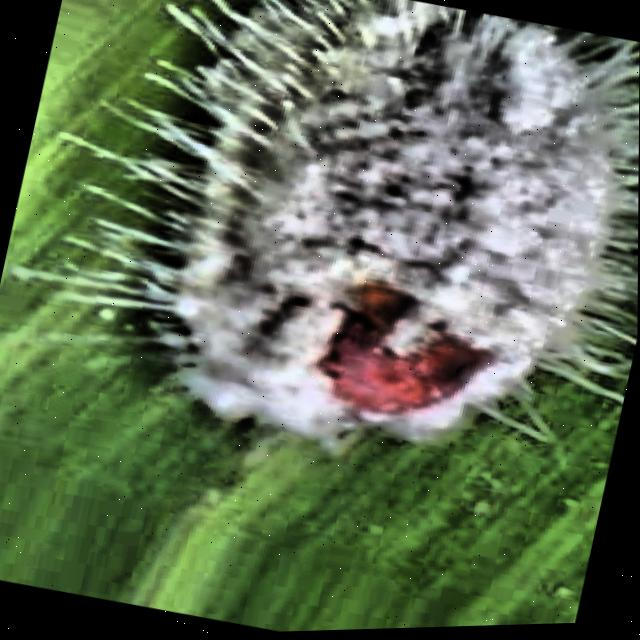Mealy-bug: (43, 0, 640, 538)
